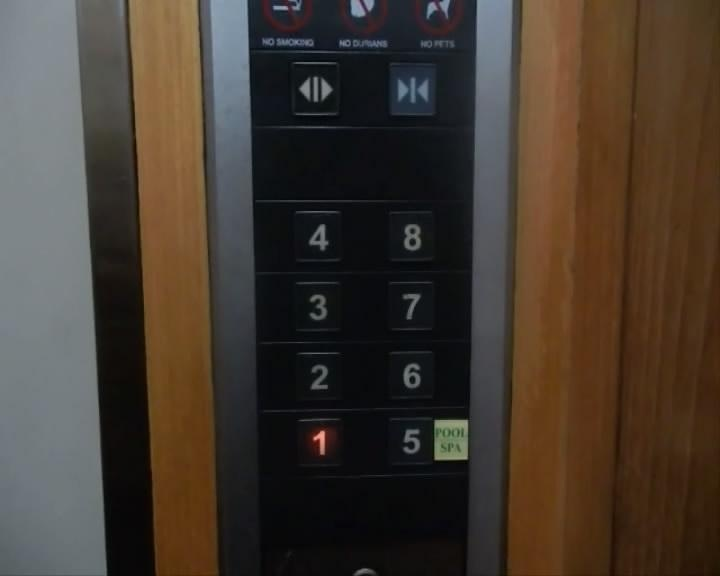1: (294, 416, 347, 469)
2: (292, 350, 343, 401)
3: (291, 279, 343, 331)
4: (289, 207, 345, 263)
5: (384, 414, 433, 463)
6: (385, 349, 434, 399)
7: (383, 279, 438, 332)
8: (384, 208, 438, 264)
close: (385, 60, 439, 118)
open: (288, 60, 342, 117)
